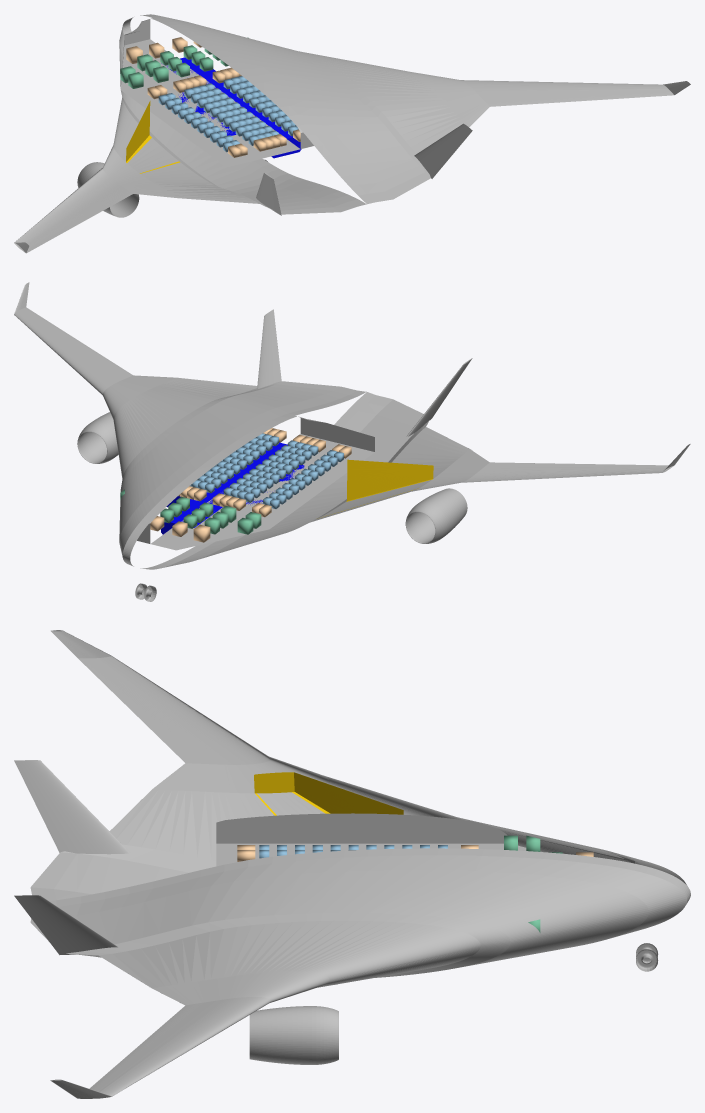
File: BWB.gltf
3 views of the same model, one above another, from view 1: azimuth 30°, elevation 25°; view 2: azimuth 150°, elevation 25°; view 3: azimuth 270°, elevation 25° (orthographic). The views are drawn at different scales.
Visible parts, largest first — view 1: Renderer Node; view 2: Renderer Node; view 3: Renderer Node.
Part boxes in pixels (x1,y1,x2,y2): Renderer Node: [14, 14, 690, 253]; Renderer Node: [14, 282, 690, 601]; Renderer Node: [14, 630, 690, 1098].
Bounding box in the file's own units: 48.37 × 7.62 × 30.78.
